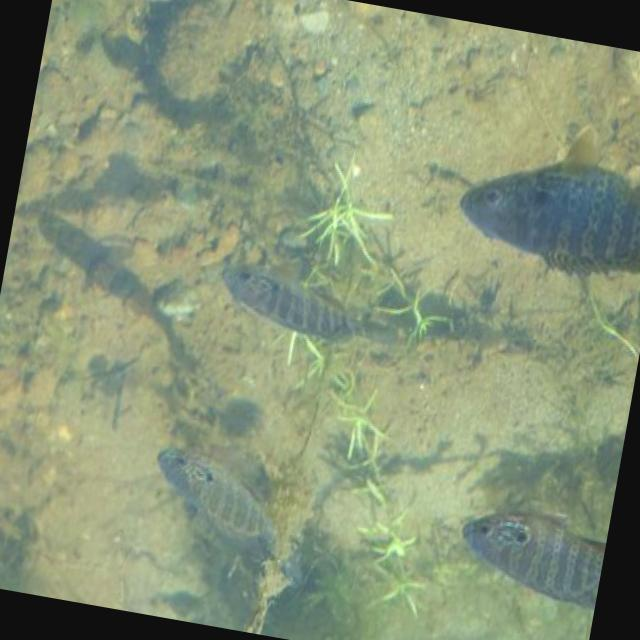Gunes Levregi: (213, 249, 431, 358)
